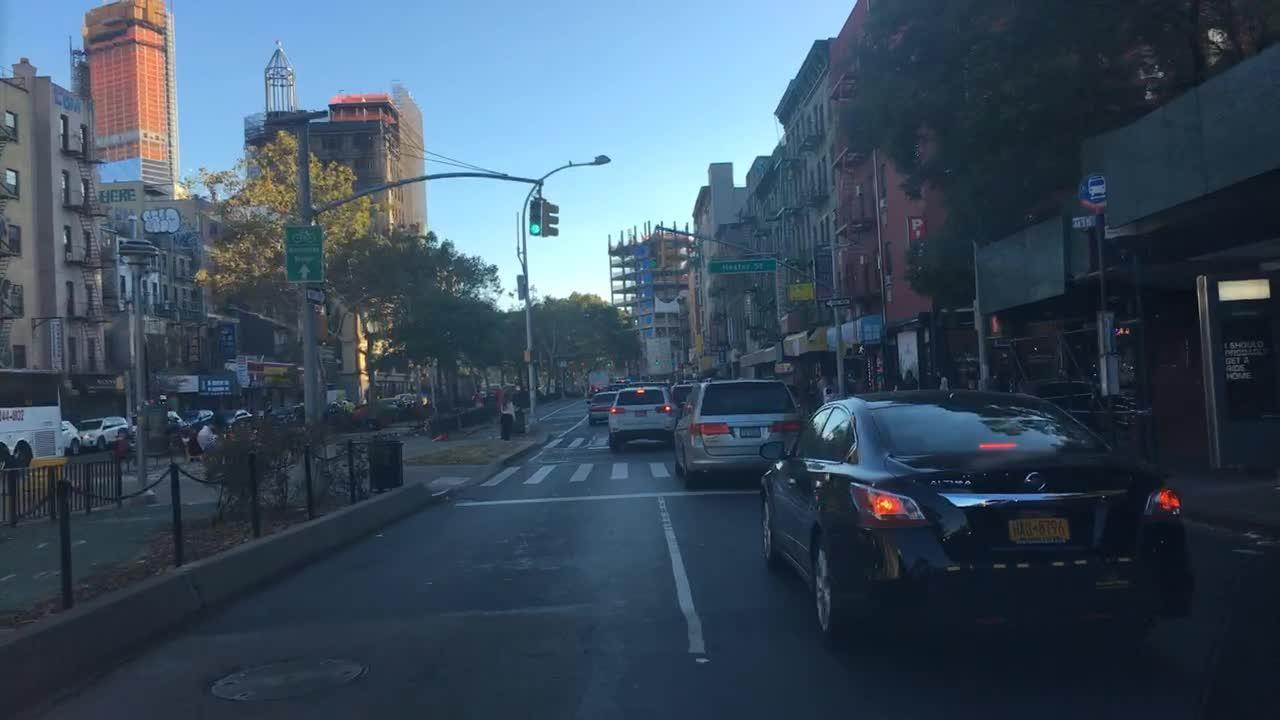Nissan: (1020, 472, 1050, 497)
